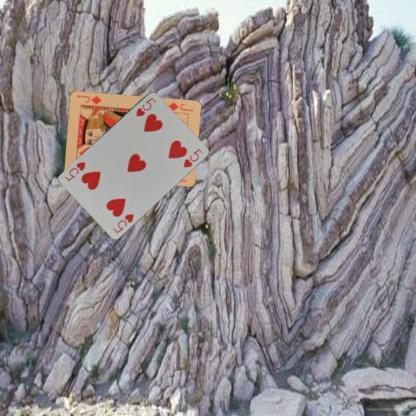5h: (110, 211, 136, 234), (134, 95, 157, 117)
Jd: (165, 100, 194, 113)
